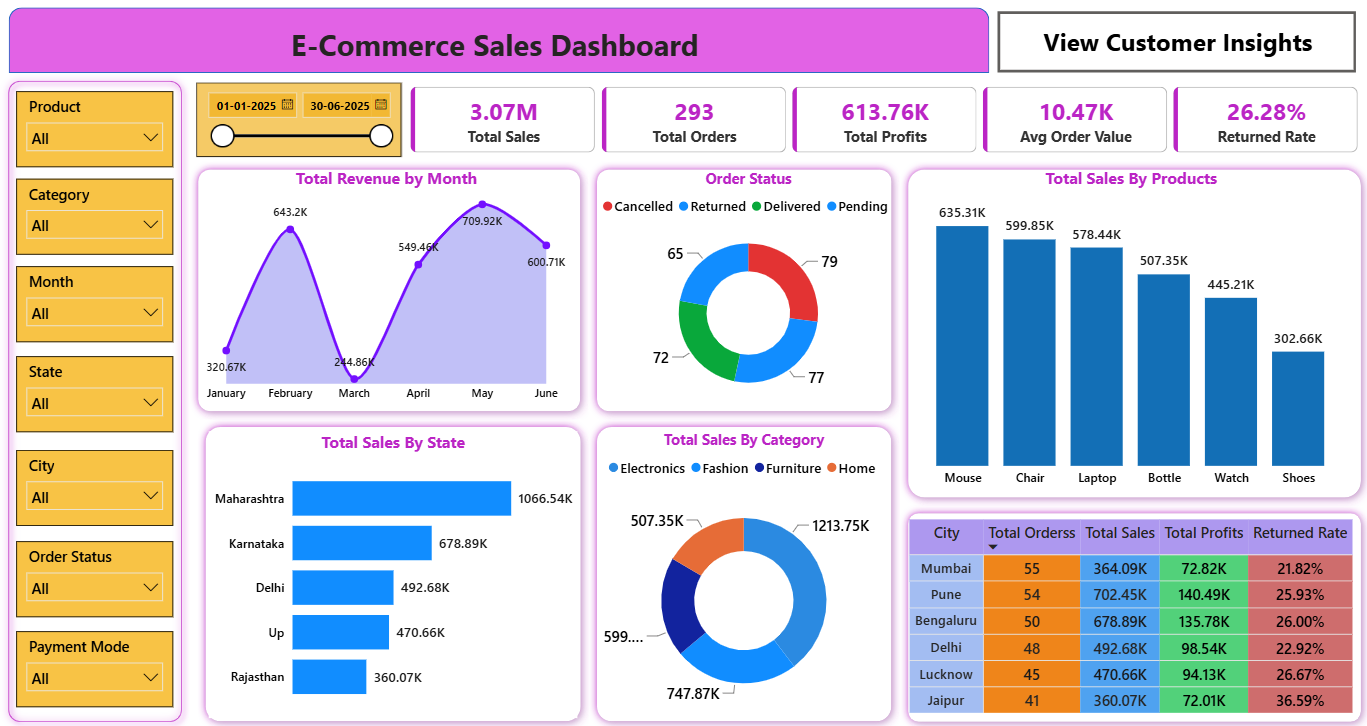

Layout of this report page (visuals, bound fields, positions):
{"tool":"powerbi","page":{"name":"E-commerce Dashboard","canvas":[1500,800],"ordinal":0},"visuals":[{"type":"shape","box":[645.1,176.1,340.8,283.1],"z":0},{"type":"shape","box":[985.9,553.5,514.1,246.5],"z":1000},{"type":"shape","box":[208.5,176.1,436.6,283.1],"z":2000},{"type":"shape","box":[985.9,176.1,514.1,377.5],"z":3000},{"type":"shape","box":[215.9,459.4,429,340.6],"z":4000},{"type":"cardVisual","fields":{"Data":["public ecommerce_sales.Total_sales","public ecommerce_sales.total_orderss","public ecommerce_sales.Total_profits","public ecommerce_sales.avg order_value","public ecommerce_sales.Returned Rate"]},"box":[440.8,85.9,1059.2,90.1],"z":5000},{"type":"shape","box":[0,79.2,208.3,720.8],"z":6000},{"type":"slicer","fields":{"Values":["public ecommerce_sales.order_date"]},"box":[215.3,90.3,225,81.9],"z":7000},{"type":"pivotTable","title":"Job Satisfaction Rating","fields":{"Values":["public ecommerce_sales.total_orderss","public ecommerce_sales.Total_sales","public ecommerce_sales.Total_profits","public ecommerce_sales.Returned Rate"],"Rows":["public ecommerce_sales.city"]},"box":[991.5,564.8,504.2,222.5],"z":8000},{"type":"shape","box":[644.9,459.4,340.6,340.6],"z":9000},{"type":"donutChart","title":"Total Sales By Category","fields":{"Y":["public ecommerce_sales.Total_sales"],"Category":["public ecommerce_sales.category"]},"box":[654.9,470,321.1,323.9],"z":10000},{"type":"slicer","fields":{"Values":["public ecommerce_sales.order_status"]},"box":[18.3,593,171.8,83.1],"z":11000},{"type":"lineChart","title":"Total Revenue by Month","fields":{"Y":["public ecommerce_sales.Total_sales"],"Category":["public ecommerce_sales.order_date.Variation.Date Hierarchy.Month","public ecommerce_sales.order_date.Variation.Date Hierarchy.Day"]},"box":[215.5,183.1,416.9,266.2],"z":12000},{"type":"clusteredColumnChart","title":"Total Sales By Products","fields":{"Y":["public ecommerce_sales.Total_sales"],"Category":["public ecommerce_sales.product"]},"box":[991.5,183.1,495.8,359.2],"z":13000},{"type":"clusteredBarChart","title":"Total Sales By State","fields":{"Category":["public ecommerce_sales.state"],"Y":["public ecommerce_sales.Total_sales"]},"box":[228.2,473.2,404.2,314.1],"z":14000},{"type":"donutChart","title":"Order Status","fields":{"Category":["public ecommerce_sales.order_status"],"Y":["public ecommerce_sales.total_orderss"]},"box":[654.9,183.1,331,266.2],"z":15000},{"type":"slicer","fields":{"Values":["public ecommerce_sales.product"]},"box":[18.3,100,171.8,83.1],"z":16000},{"type":"slicer","fields":{"Values":["public ecommerce_sales.category"]},"box":[18.3,196,171.8,83.1],"z":17000},{"type":"slicer","fields":{"Values":["public ecommerce_sales.month"]},"box":[18.3,292,171.8,83.1],"z":18000},{"type":"slicer","fields":{"Values":["public ecommerce_sales.state"]},"box":[18.3,391,171.8,83.1],"z":19000},{"type":"slicer","fields":{"Values":["public ecommerce_sales.city"]},"box":[18.3,493,171.8,83.1],"z":20000},{"type":"slicer","fields":{"Values":["public ecommerce_sales.payment_mode"]},"box":[18.3,691.5,171.8,83.1],"z":21000},{"type":"shape","box":[9.9,8.5,1074.6,71.8],"z":22000},{"type":"textbox","box":[9.9,22.5,1074.6,57.7],"z":23000},{"type":"textbox","box":[1094.4,22.5,393,56.3],"z":25000},{"type":"actionButton","box":[1094.4,12.7,393,66.2],"z":25500}]}

Visuals, with their boxes in screenshot pixels (x1, y1, x2, y2), scaled from the page's 1500x800 canvas onto the 1367x726 screenshot:
shape: (x1=588, y1=160, x2=898, y2=417)
shape: (x1=898, y1=502, x2=1366, y2=725)
shape: (x1=190, y1=160, x2=588, y2=417)
shape: (x1=898, y1=160, x2=1366, y2=502)
shape: (x1=197, y1=417, x2=588, y2=725)
cardVisual - public ecommerce_sales.Total_sales x public ecommerce_sales.total_orderss: (x1=402, y1=78, x2=1366, y2=160)
shape: (x1=0, y1=72, x2=190, y2=725)
slicer - public ecommerce_sales.order_date: (x1=196, y1=82, x2=401, y2=156)
"Job Satisfaction Rating" pivotTable: (x1=904, y1=513, x2=1363, y2=714)
shape: (x1=588, y1=417, x2=898, y2=725)
"Total Sales By Category" donutChart: (x1=597, y1=427, x2=889, y2=720)
slicer - public ecommerce_sales.order_status: (x1=17, y1=538, x2=173, y2=614)
"Total Revenue by Month" lineChart: (x1=196, y1=166, x2=576, y2=408)
"Total Sales By Products" clusteredColumnChart: (x1=904, y1=166, x2=1355, y2=492)
"Total Sales By State" clusteredBarChart: (x1=208, y1=429, x2=576, y2=714)
"Order Status" donutChart: (x1=597, y1=166, x2=898, y2=408)
slicer - public ecommerce_sales.product: (x1=17, y1=91, x2=173, y2=166)
slicer - public ecommerce_sales.category: (x1=17, y1=178, x2=173, y2=253)
slicer - public ecommerce_sales.month: (x1=17, y1=265, x2=173, y2=340)
slicer - public ecommerce_sales.state: (x1=17, y1=355, x2=173, y2=430)
slicer - public ecommerce_sales.city: (x1=17, y1=447, x2=173, y2=523)
slicer - public ecommerce_sales.payment_mode: (x1=17, y1=628, x2=173, y2=703)
shape: (x1=9, y1=8, x2=988, y2=73)
textbox: (x1=9, y1=20, x2=988, y2=73)
textbox: (x1=997, y1=20, x2=1356, y2=72)
actionButton: (x1=997, y1=12, x2=1356, y2=72)
